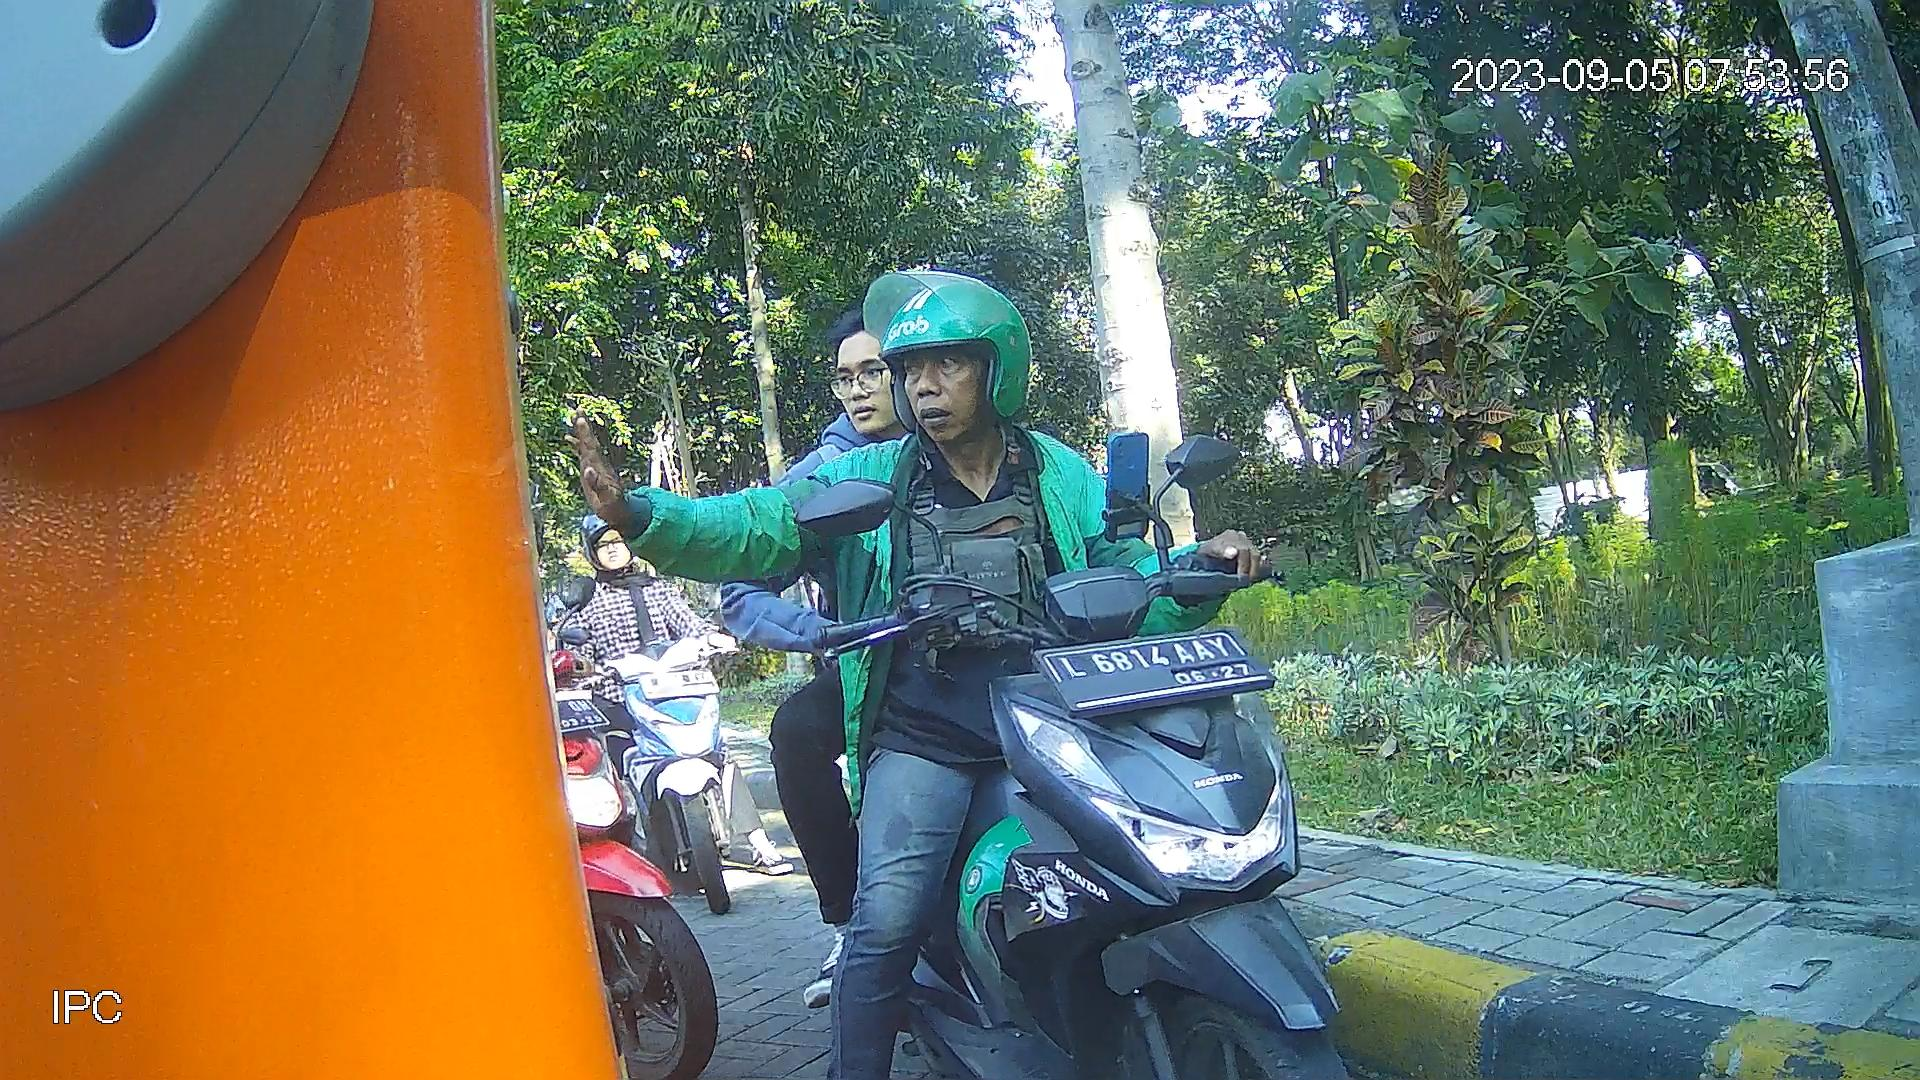plat: (1031, 629, 1278, 719)
